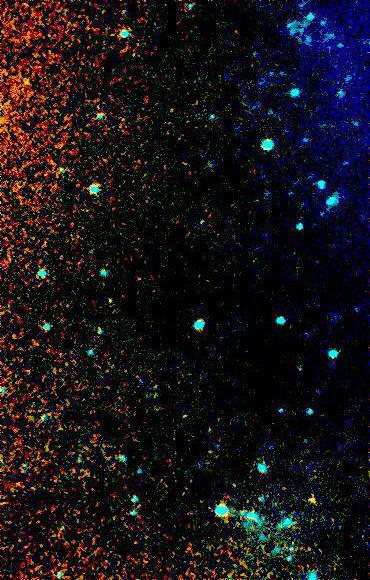star: (297, 485, 327, 515)
